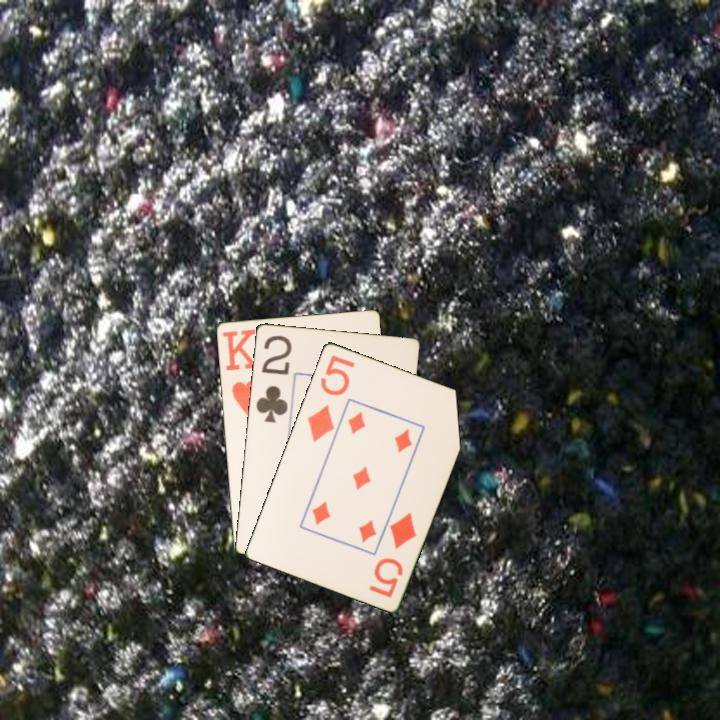2c: (252, 331, 295, 425)
5d: (303, 351, 357, 445), (365, 508, 419, 600)
Kh: (218, 325, 262, 419)
